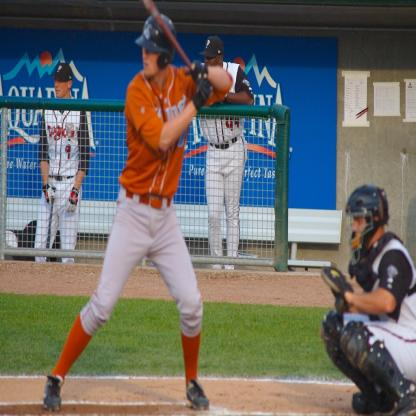Helmet: (348, 191, 389, 255), (134, 11, 176, 67)
